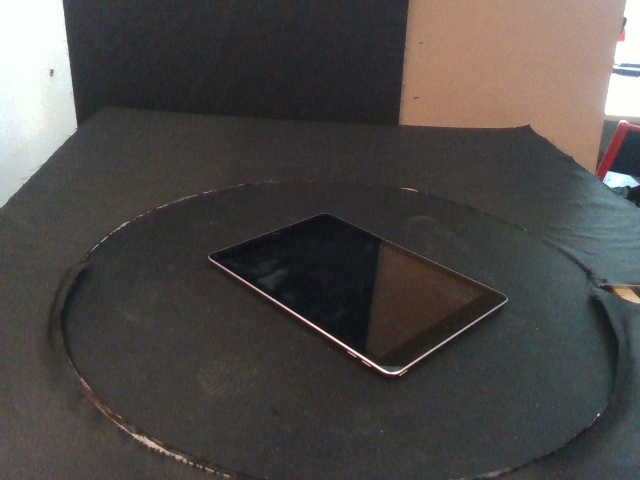laptop: (208, 212, 509, 378)
